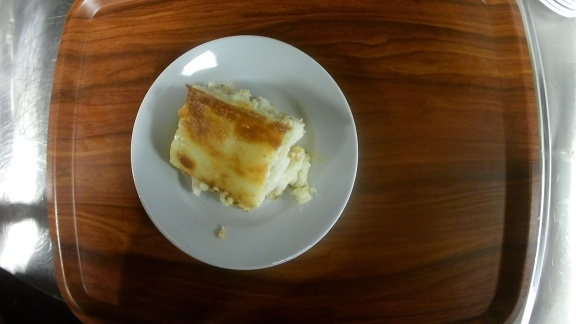firinmakarna: (121, 34, 359, 271)
